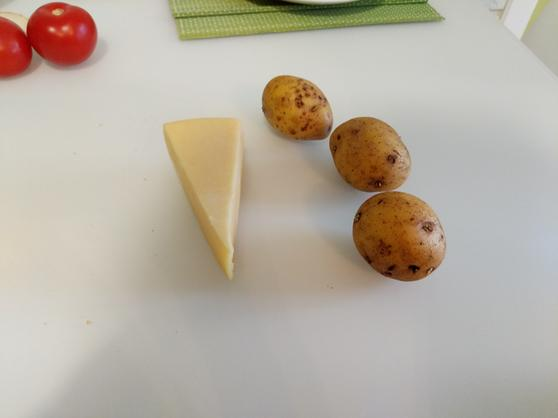cheese: (163, 118, 246, 280)
potato: (352, 190, 449, 283), (327, 116, 413, 188), (261, 75, 334, 141)
tomato: (29, 4, 96, 65), (1, 19, 32, 79)
